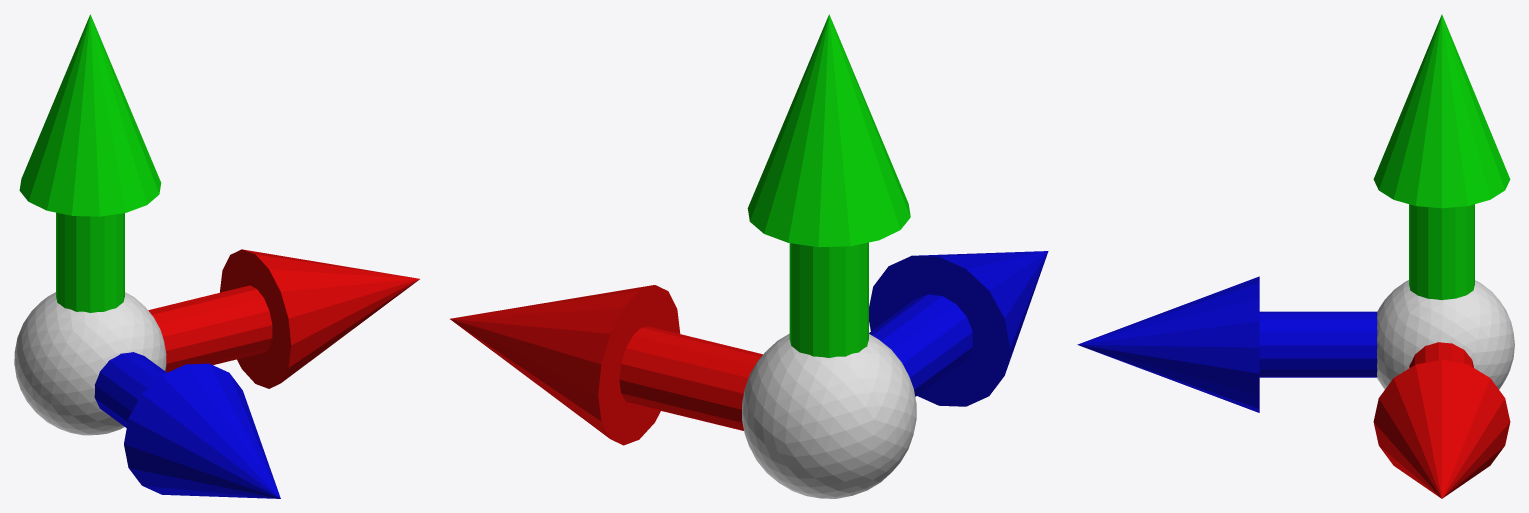
Rendered from axis.gltf.
The picture shows the model from 3 angles, left to right: view 1: azimuth 30°, elevation 25°; view 2: azimuth 150°, elevation 25°; view 3: azimuth 270°, elevation 25°; orthographic projection. The views are drawn at different scales.
Visible parts, largest first — view 1: geo1; view 2: geo1; view 3: geo1.
Boxes of the visible parts, x1,y1,x2,y2 form: geo1: (14, 14, 419, 498); geo1: (450, 14, 1048, 498); geo1: (1077, 14, 1514, 498).
Bounding box in the file's own units: 1.2 × 1.2 × 1.2.
